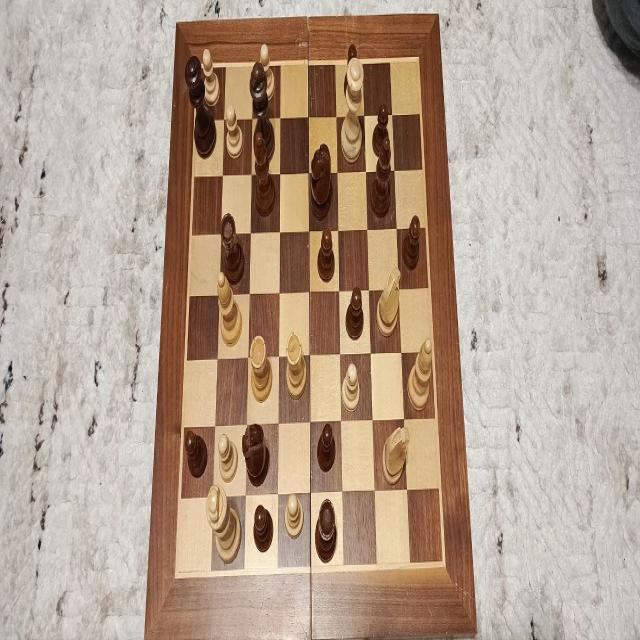black_bishop: (253, 125, 275, 215), (371, 136, 392, 218)
black_king: (249, 60, 275, 163)
black_knight: (310, 142, 332, 221), (242, 422, 268, 482)
black_pawn: (185, 428, 208, 478), (345, 285, 364, 339), (403, 214, 421, 270), (372, 101, 390, 157), (317, 226, 335, 281), (316, 422, 336, 471), (253, 502, 272, 551), (344, 44, 359, 98)
black_queen: (184, 54, 217, 160)
black_rook: (220, 213, 245, 284), (314, 498, 337, 562)
white_bishop: (407, 336, 432, 409), (217, 272, 242, 343)
white_king: (206, 482, 242, 562)
white_knight: (376, 265, 402, 334), (382, 425, 410, 483)
white_pawn: (218, 432, 239, 484), (202, 48, 220, 107), (225, 102, 243, 158), (258, 40, 274, 101), (341, 362, 360, 412), (284, 491, 304, 538)
white_queen: (340, 58, 364, 164)
white_rook: (250, 333, 272, 399), (286, 331, 306, 397)
